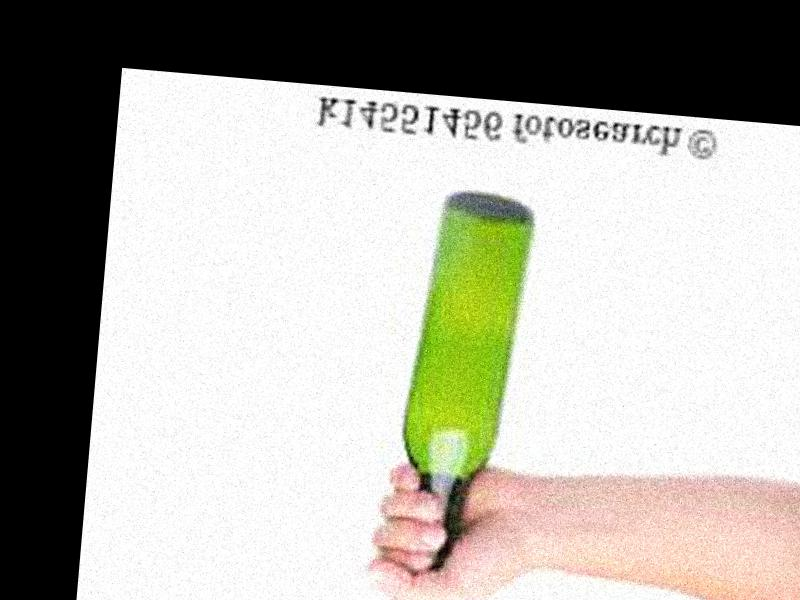Beer: (387, 188, 538, 600)
